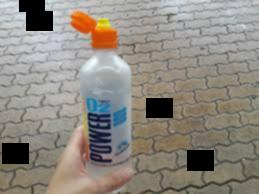powerO2_orange: (69, 9, 139, 193)
